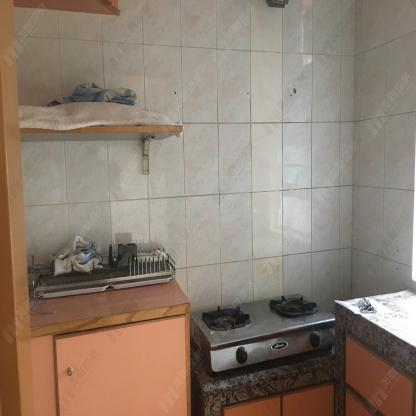Stove: (190, 286, 337, 385)
